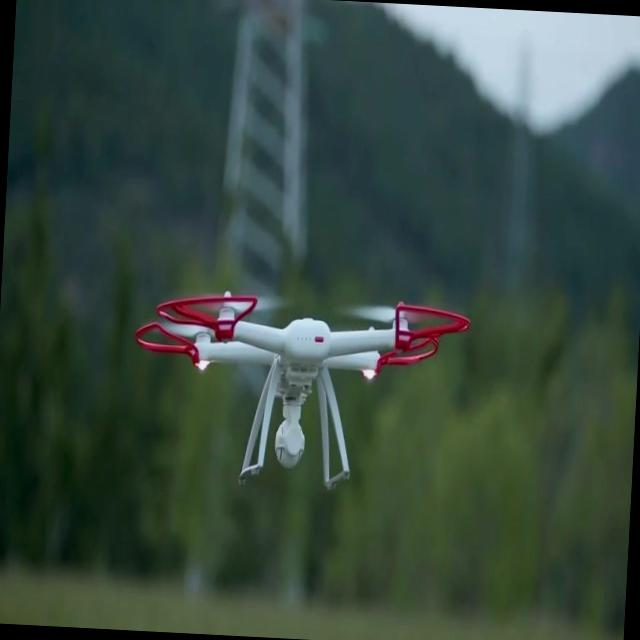drone: (126, 284, 471, 499)
